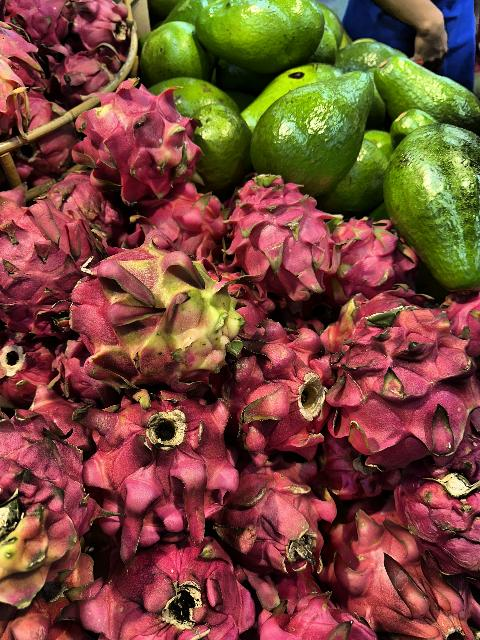buah-naga-belum-matang: (320, 299, 473, 467), (82, 234, 243, 392), (342, 496, 474, 640), (0, 420, 92, 606), (70, 86, 192, 200)
buah-naga-matang: (78, 396, 244, 550), (2, 166, 104, 342), (87, 546, 261, 640), (222, 168, 340, 298), (217, 454, 333, 570), (240, 314, 326, 468), (398, 464, 480, 580), (330, 209, 416, 289)
